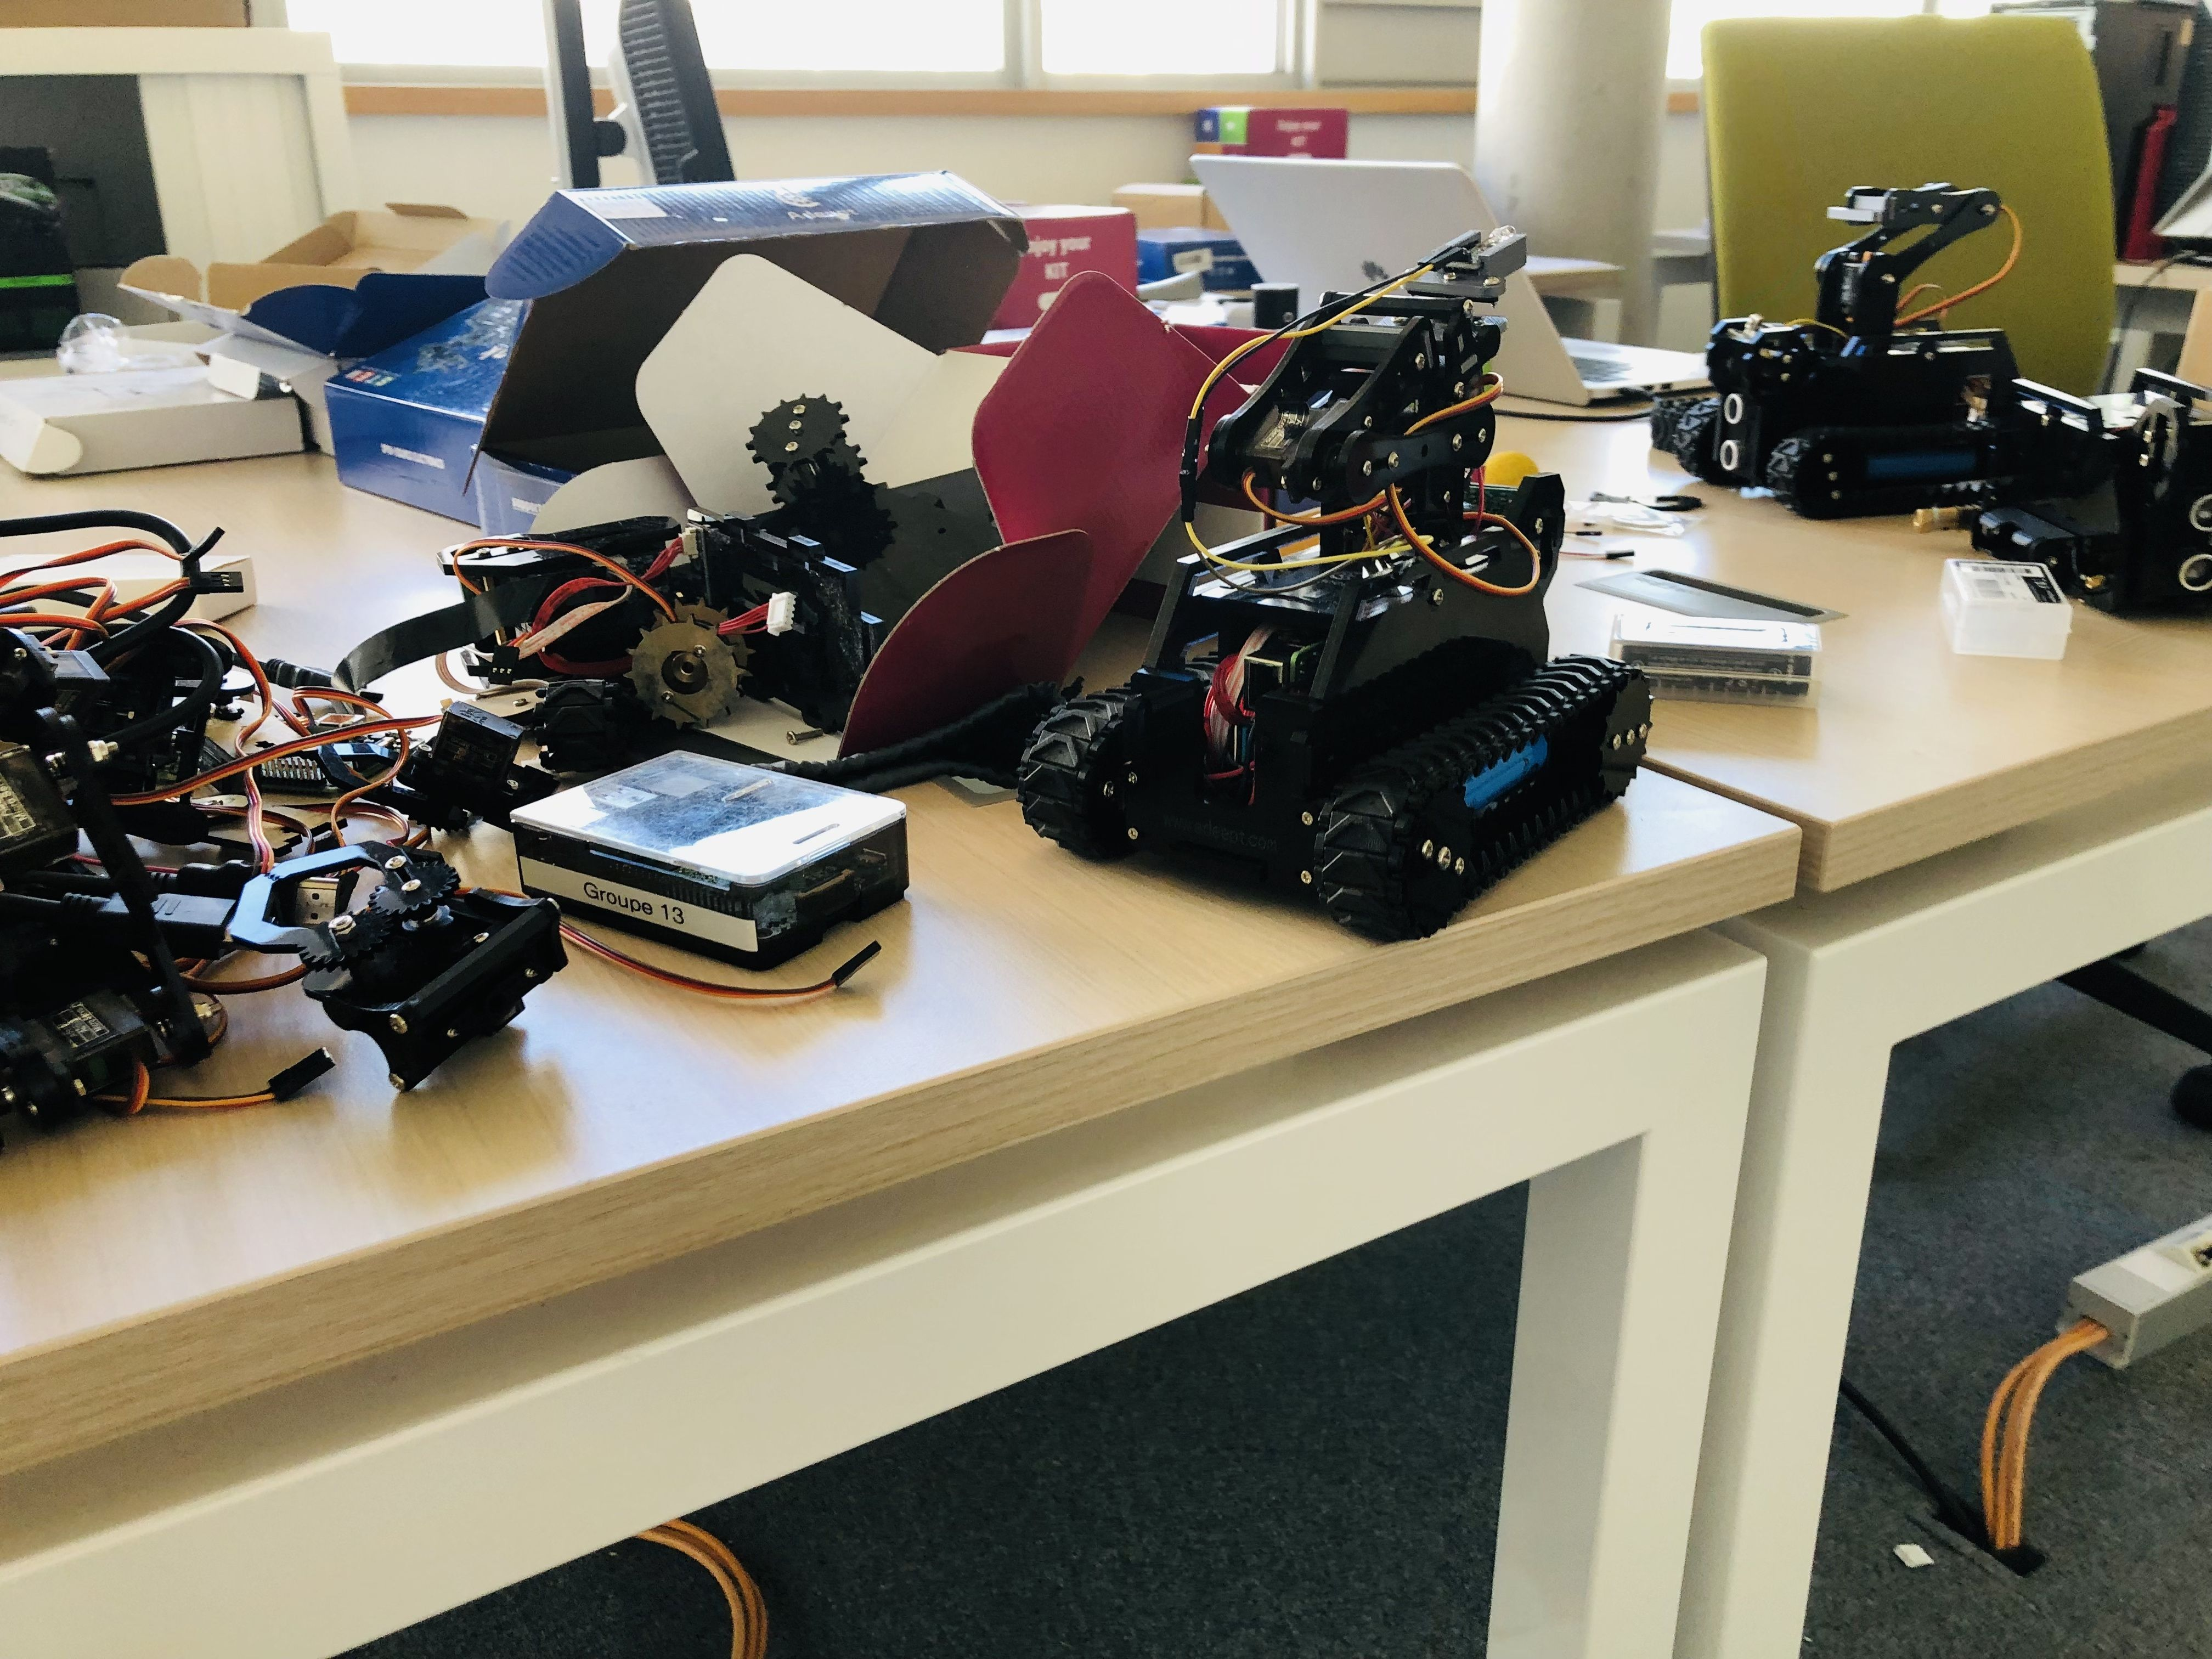rasptank: (1019, 220, 1658, 953)
